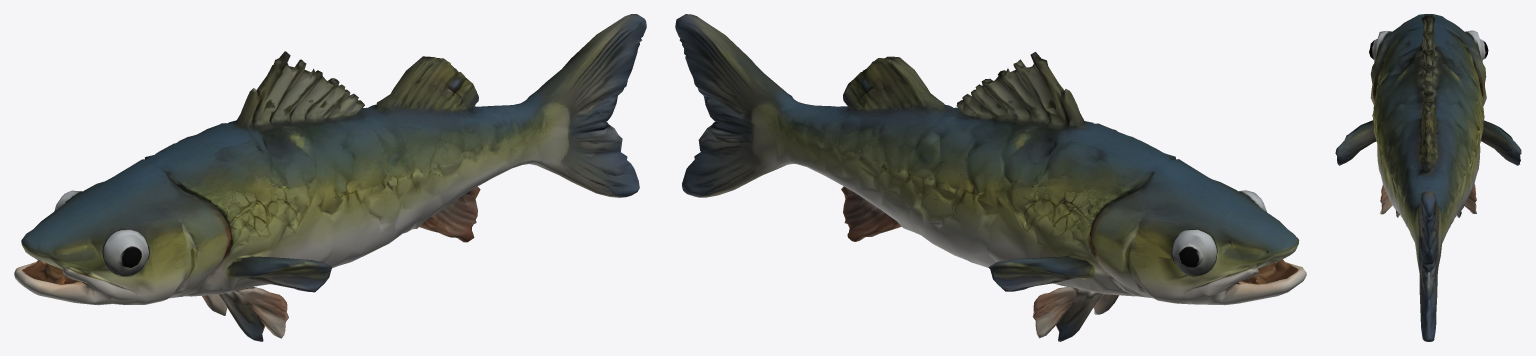
Rendered from fish-sudak.glb.
3 views of the same model, side by side, from view 1: azimuth 30°, elevation 25°; view 2: azimuth 150°, elevation 25°; view 3: azimuth 270°, elevation 25° (orthographic). The views are drawn at different scales.
Visible parts, largest first — view 1: tripo_node_947e4382-8390-411b-927b-a1f3a103e917; view 2: tripo_node_947e4382-8390-411b-927b-a1f3a103e917; view 3: tripo_node_947e4382-8390-411b-927b-a1f3a103e917.
Part boxes in pixels (x1=…): tripo_node_947e4382-8390-411b-927b-a1f3a103e917: x1=14, y1=14, x2=646, y2=341; tripo_node_947e4382-8390-411b-927b-a1f3a103e917: x1=675, y1=14, x2=1306, y2=341; tripo_node_947e4382-8390-411b-927b-a1f3a103e917: x1=1335, y1=14, x2=1521, y2=341.
Size of the model in its own units: 1 by 0.4047 by 0.3084.
1 material, 1 textured.
